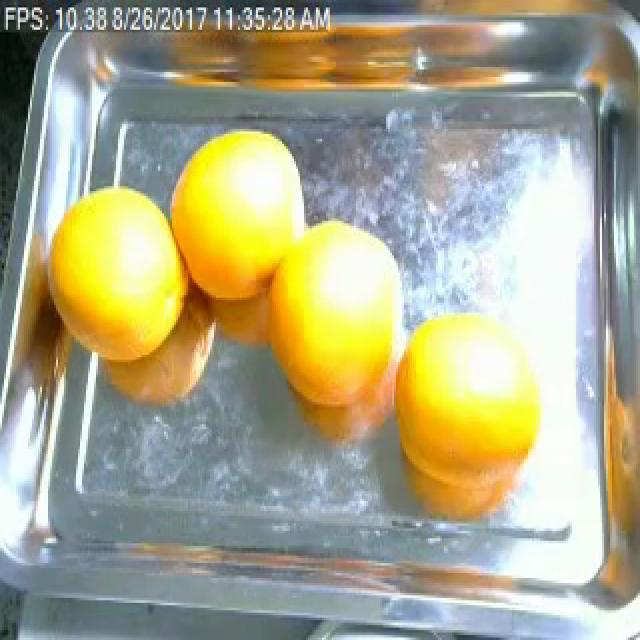Fruit: (154, 116, 326, 302)
